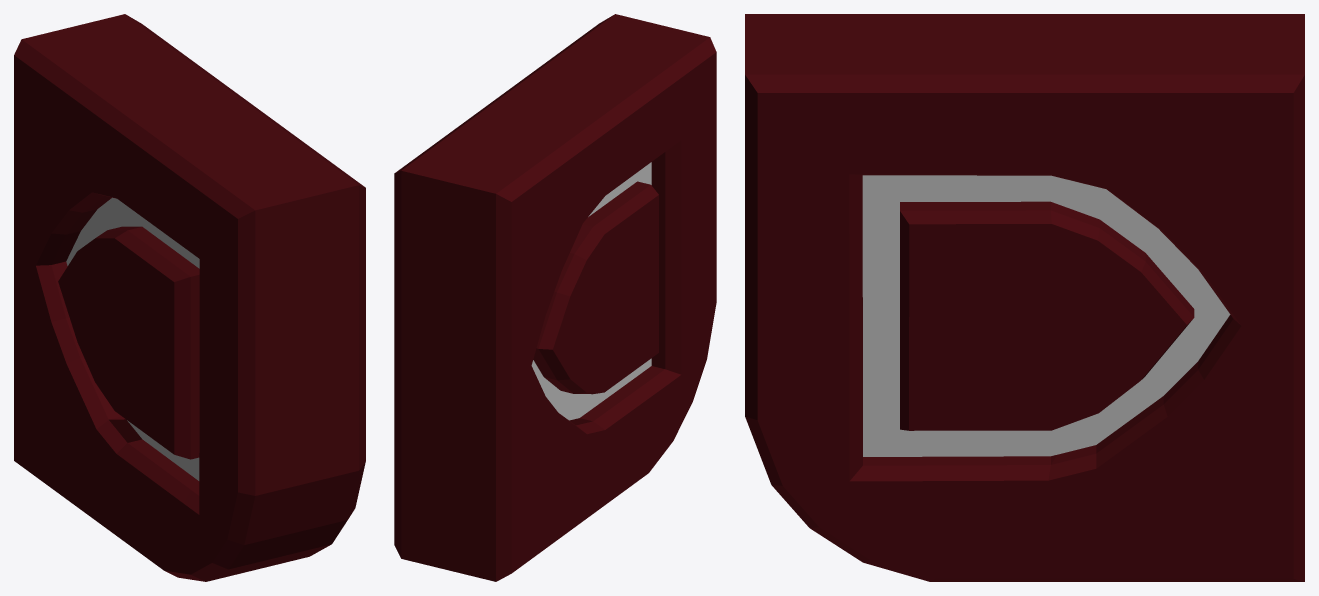
Rendered from shield.obj.
3 renders of one model, left to right at view 1: azimuth 30°, elevation 25°; view 2: azimuth 150°, elevation 25°; view 3: azimuth 270°, elevation 25°, orthographic. The views are drawn at different scales.
Visible parts, largest first — view 1: Cube_Cube.001, Cube.001_Cube; view 2: Cube_Cube.001, Cube.001_Cube; view 3: Cube_Cube.001, Cube.001_Cube.
Part boxes in pixels (left/top/right/bottom): Cube_Cube.001: left=14, top=14, right=365, bottom=581; Cube.001_Cube: left=66, top=197, right=199, bottom=480; Cube_Cube.001: left=394, top=14, right=716, bottom=581; Cube.001_Cube: left=531, top=162, right=651, bottom=420; Cube_Cube.001: left=745, top=14, right=1304, bottom=581; Cube.001_Cube: left=862, top=175, right=1230, bottom=456.
Bounding box in the file's own units: 2.47 × 7.76 × 7.76.
